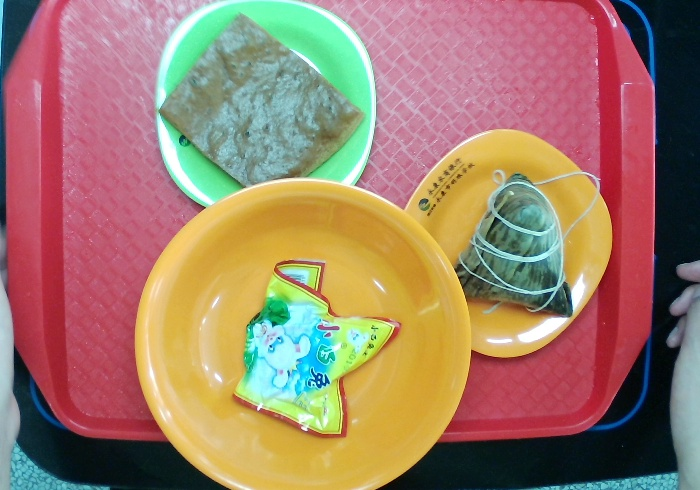YKMZ-Ju_Se_Fang_Die: (401, 127, 615, 362)
YKMZ-Ju_Se_Tang_Wan: (131, 175, 474, 490)
YKMZ-Lv_Se_Fang_Die: (151, 1, 379, 211)
